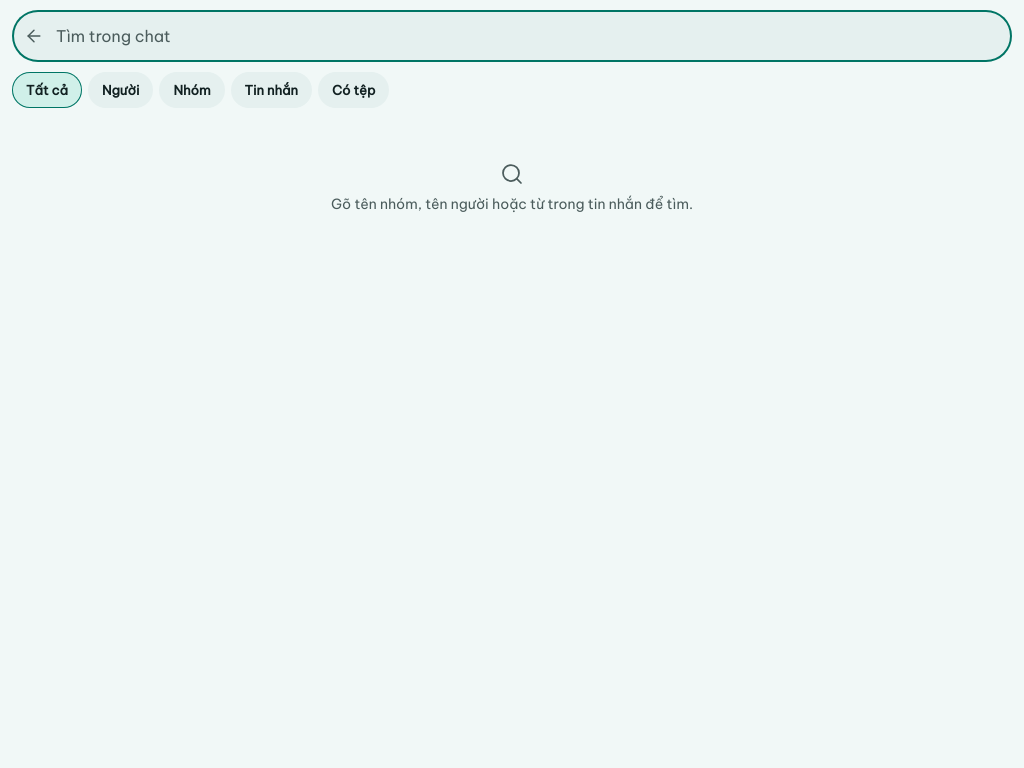
messages › says a search failed and tries again
Type "đối soát" into the search field labelled "Tìm trong chat".
click(530, 36); type("đối soát")  # box [56, 14, 1004, 58]
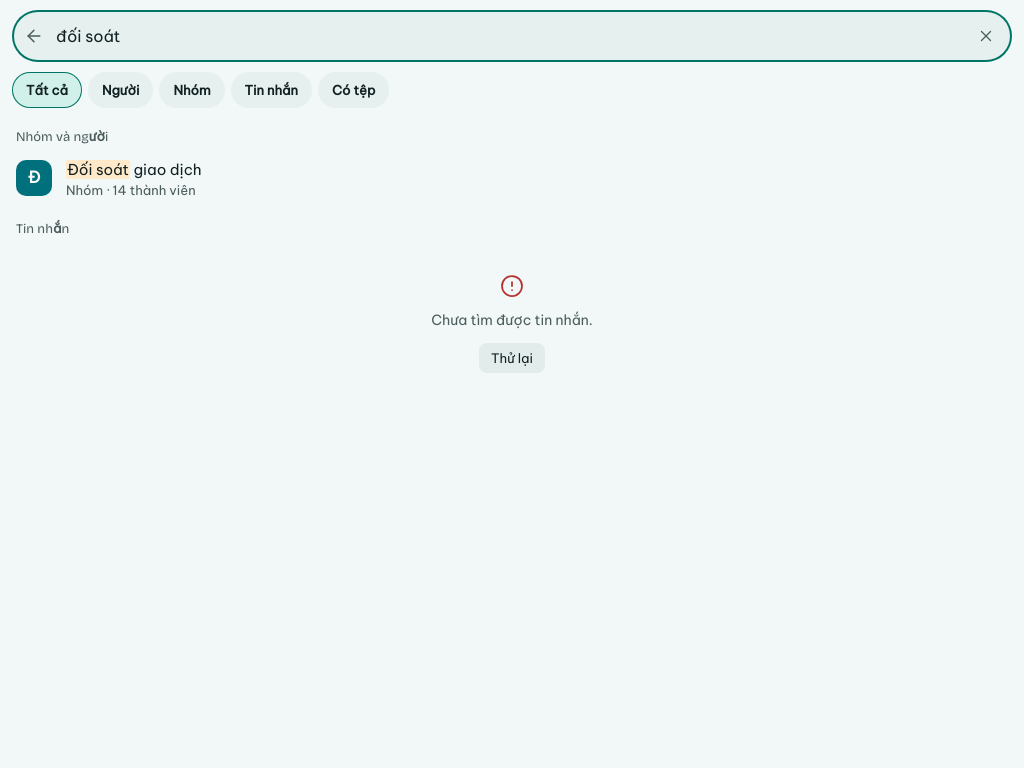
Expected: the text "Chưa tìm được tin nhắn." is shown, [431, 310, 593, 331]
Click the button "Thử lại".
click(512, 358)  # box [479, 343, 545, 373]
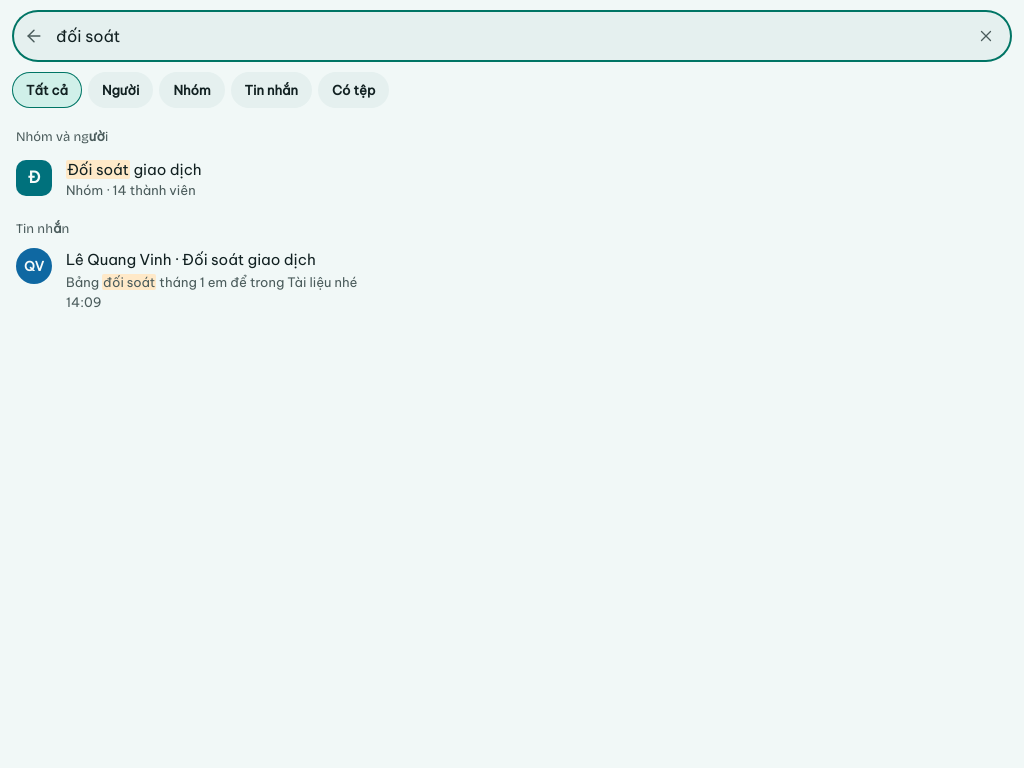
Expected: the link "Lê Quang Vinh" is shown, [16, 248, 357, 310]
